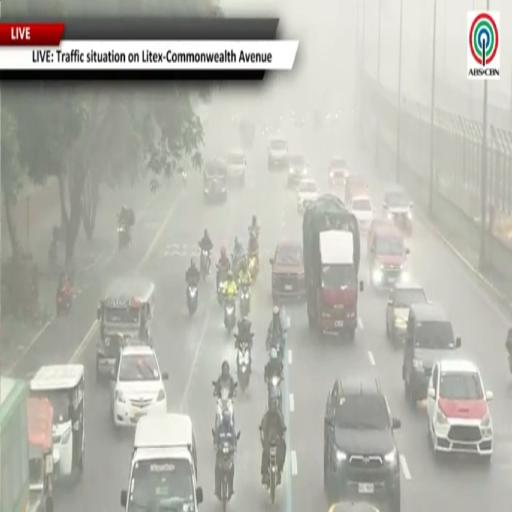bus: (0, 377, 29, 511)
car: (324, 377, 401, 511), (427, 359, 493, 460), (30, 364, 85, 479), (402, 302, 461, 407), (110, 346, 168, 427), (386, 282, 428, 347), (368, 226, 410, 290), (270, 242, 305, 302), (383, 186, 413, 235), (204, 158, 227, 202), (367, 217, 393, 253), (348, 195, 373, 232), (343, 173, 369, 206), (226, 150, 247, 185), (297, 179, 318, 213), (268, 136, 288, 171), (287, 155, 308, 187), (328, 157, 348, 187), (328, 501, 379, 511)
jeepney: (96, 277, 155, 380), (27, 397, 53, 511)
motorcycle: (216, 441, 235, 511), (236, 342, 252, 392), (215, 387, 234, 429), (268, 442, 278, 504), (268, 443, 278, 504), (267, 375, 282, 411), (266, 336, 284, 362), (216, 265, 227, 305), (224, 297, 236, 333), (187, 283, 198, 315), (57, 292, 72, 315), (240, 284, 250, 317), (118, 226, 131, 250), (48, 239, 58, 269), (232, 254, 245, 275), (248, 253, 258, 280), (200, 250, 209, 279), (181, 170, 187, 183), (508, 355, 511, 373)
truck: (303, 195, 363, 340)
